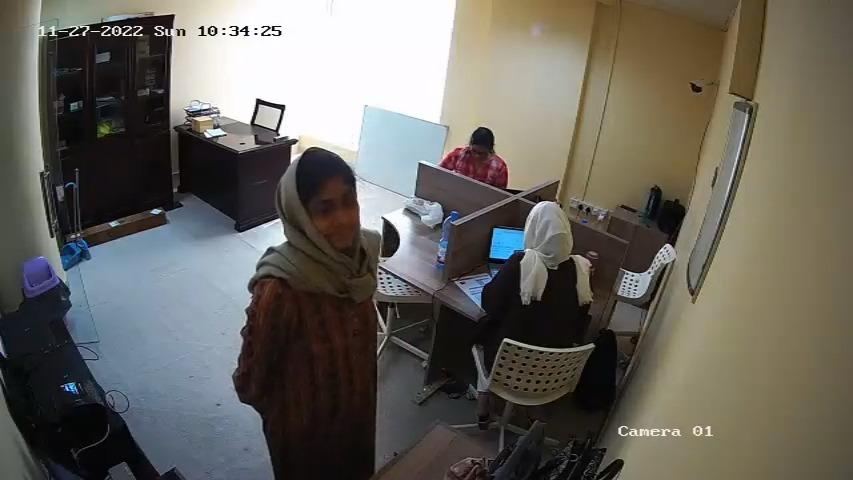no_apron: (275, 268, 374, 450)
